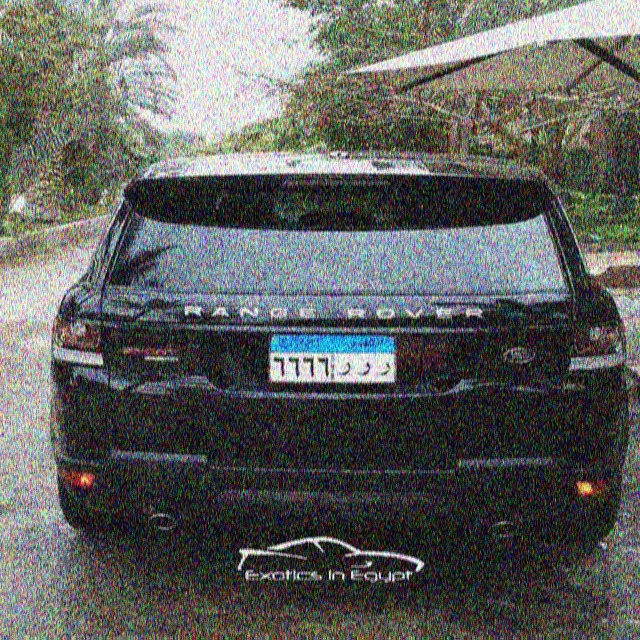License Plate: (266, 331, 399, 388)
